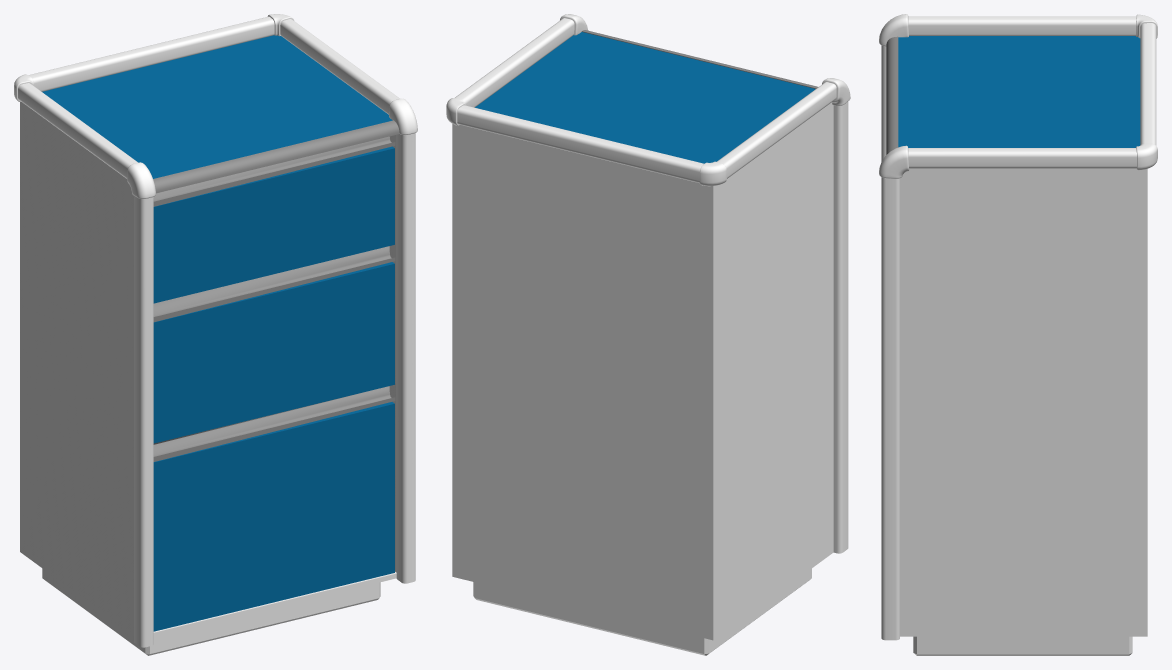
Rendered from Side table.fbx.
3 renders of one model, left to right at view 1: azimuth 30°, elevation 25°; view 2: azimuth 150°, elevation 25°; view 3: azimuth 270°, elevation 25°, orthographic. The views are drawn at different scales.
Visible parts, largest first — view 1: side table; view 2: side table; view 3: side table.
Boxes of the visible parts, x1,y1,x2,y2 form: side table: (14,14,417,655); side table: (446,14,850,655); side table: (879,14,1157,655).
Bounding box in the file's own units: 42.31 × 72.4 × 35.45.
Materials: 2 (1 with a texture image).
